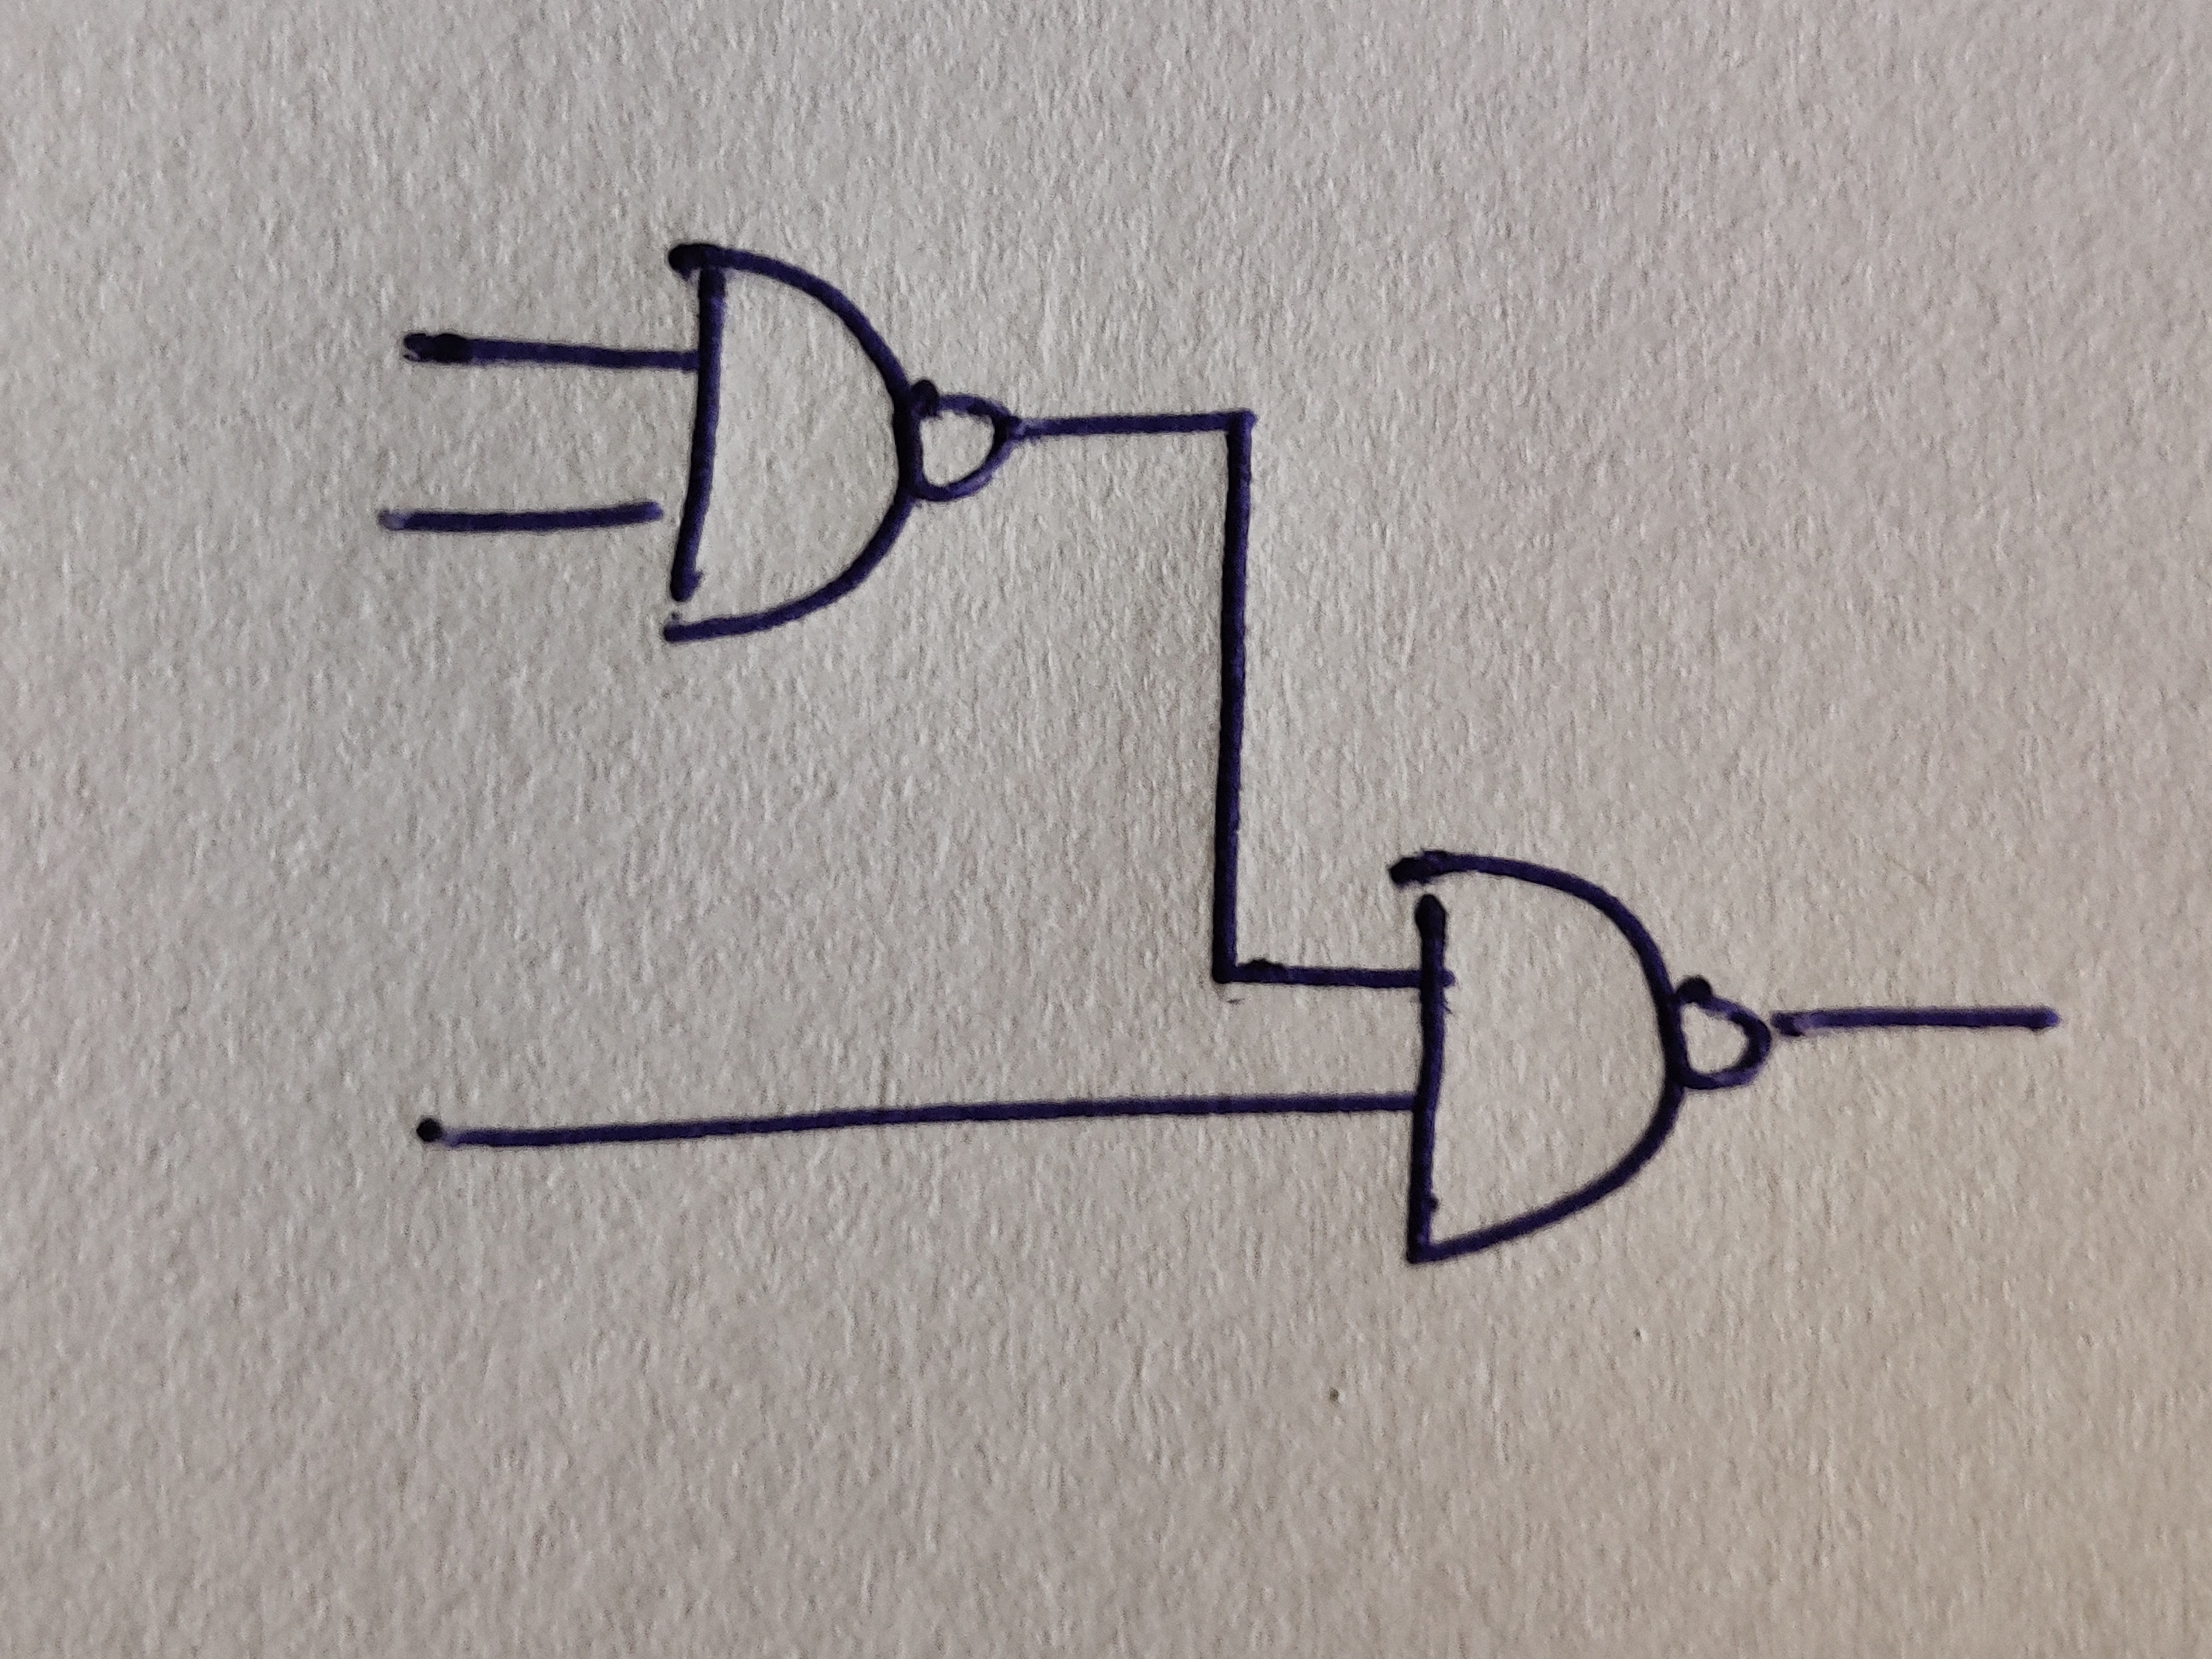and: (1392, 849, 1686, 1263), (667, 242, 913, 640)
not: (907, 375, 1012, 504), (1676, 976, 1770, 1094)
